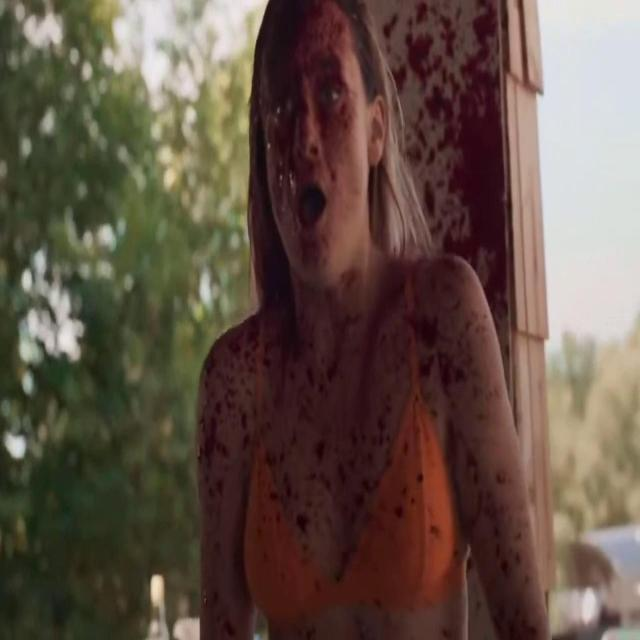flood: (406, 8, 506, 314), (264, 24, 354, 260), (198, 348, 252, 472), (280, 444, 330, 546), (416, 316, 442, 382)
